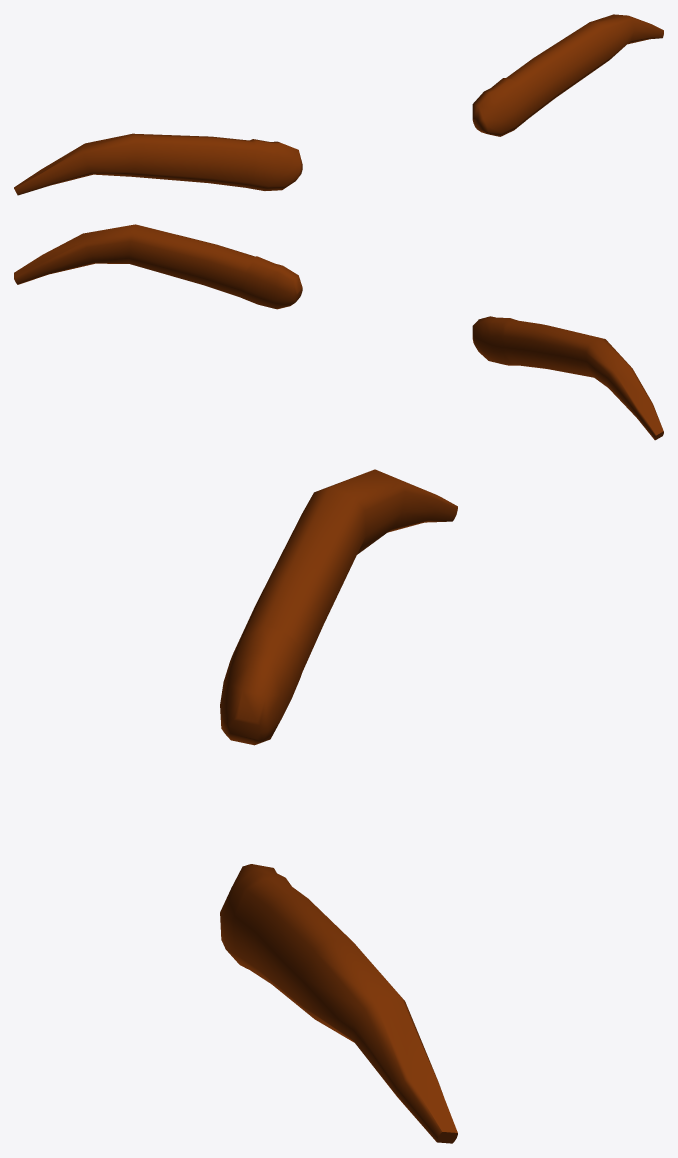
File: Eyebrows_15_02.fbx
The picture shows the model from 3 angles, top to bottom: view 1: azimuth 30°, elevation 25°; view 2: azimuth 150°, elevation 25°; view 3: azimuth 270°, elevation 25°; orthographic projection. The views are drawn at different scales.
Visible parts, largest first — view 1: Eyebrows_15_02; view 2: Eyebrows_15_02; view 3: Eyebrows_15_02.
Boxes of the visible parts, <box> form: Eyebrows_15_02: <box>14,14,663,195</box>; Eyebrows_15_02: <box>14,224,663,440</box>; Eyebrows_15_02: <box>220,469,457,1143</box>.
Bounding box in the file's own units: 19.15 × 1.93 × 3.04.
